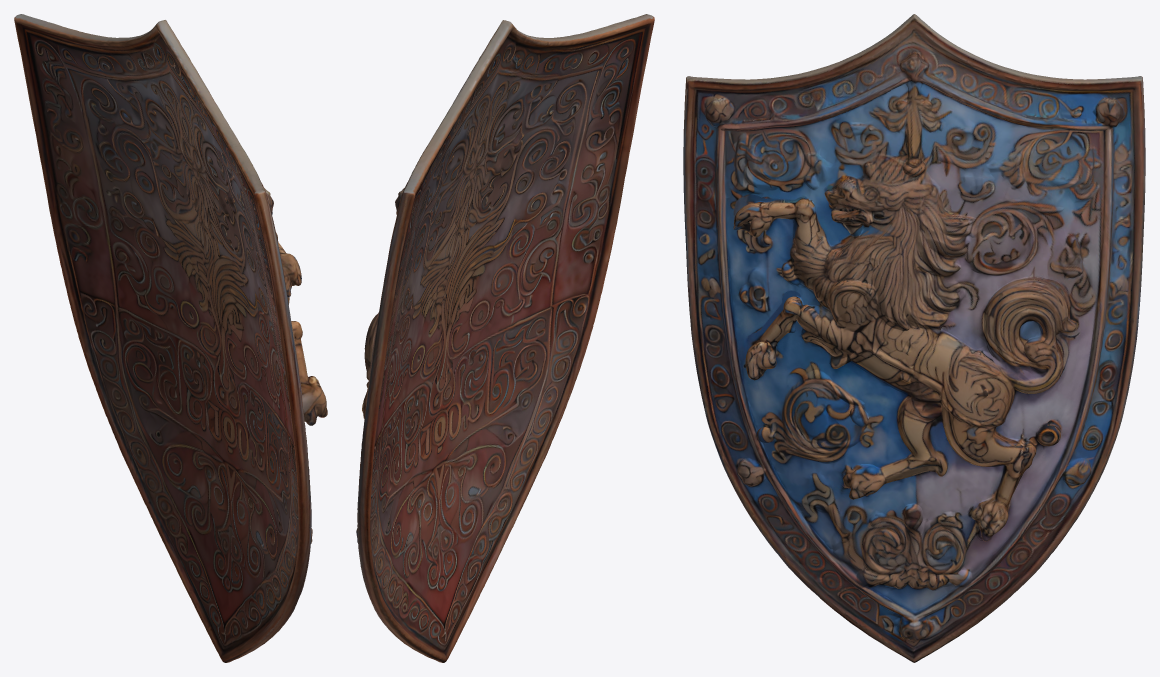
File: Shield01.glb
The picture shows the model from 3 angles, left to right: view 1: azimuth 30°, elevation 25°; view 2: azimuth 150°, elevation 25°; view 3: azimuth 270°, elevation 25°; orthographic projection. The views are drawn at different scales.
Visible parts, largest first — view 1: tripo_node_4f74233f-db56-4afa-9cd1-cd4d1f2f9782; view 2: tripo_node_4f74233f-db56-4afa-9cd1-cd4d1f2f9782; view 3: tripo_node_4f74233f-db56-4afa-9cd1-cd4d1f2f9782.
Boxes of the visible parts, left/top/right/bottom form: tripo_node_4f74233f-db56-4afa-9cd1-cd4d1f2f9782: left=14, top=14, right=327, bottom=662; tripo_node_4f74233f-db56-4afa-9cd1-cd4d1f2f9782: left=356, top=14, right=654, bottom=662; tripo_node_4f74233f-db56-4afa-9cd1-cd4d1f2f9782: left=683, top=14, right=1145, bottom=662.
Bounding box in the file's own units: 0.1977 × 0.9999 × 0.6789.
Materials: 1 (1 with a texture image).
